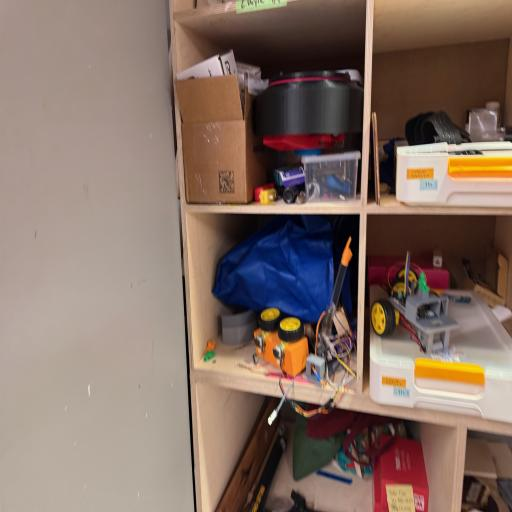Lego-Dude: (418, 272, 429, 293)
